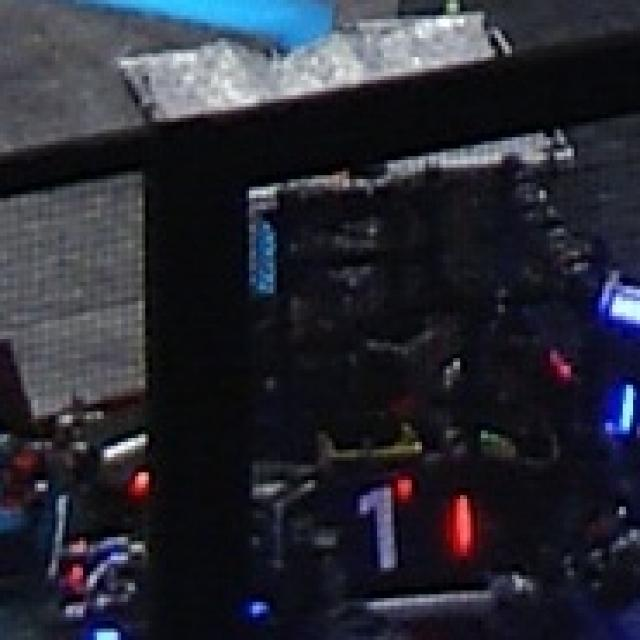R1: (318, 472, 478, 583)
